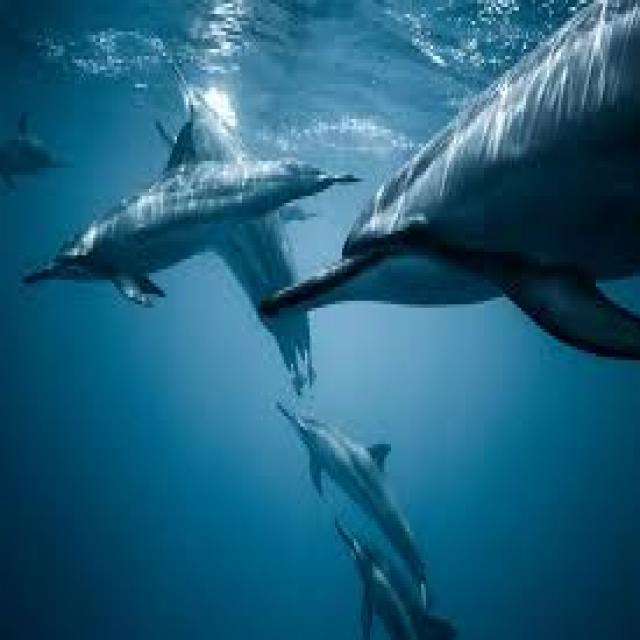dolphin: (42, 126, 349, 343), (286, 398, 438, 616)
